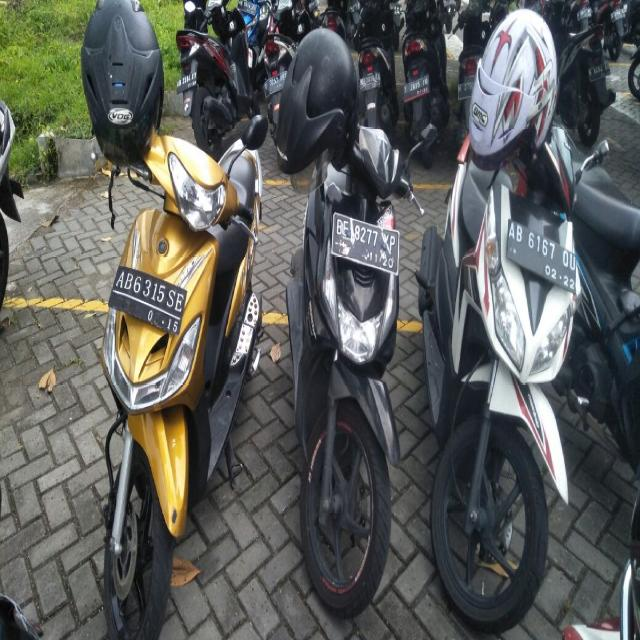plate: (508, 216, 580, 296), (109, 265, 187, 336), (333, 210, 402, 278), (401, 74, 429, 98), (175, 68, 197, 92)
